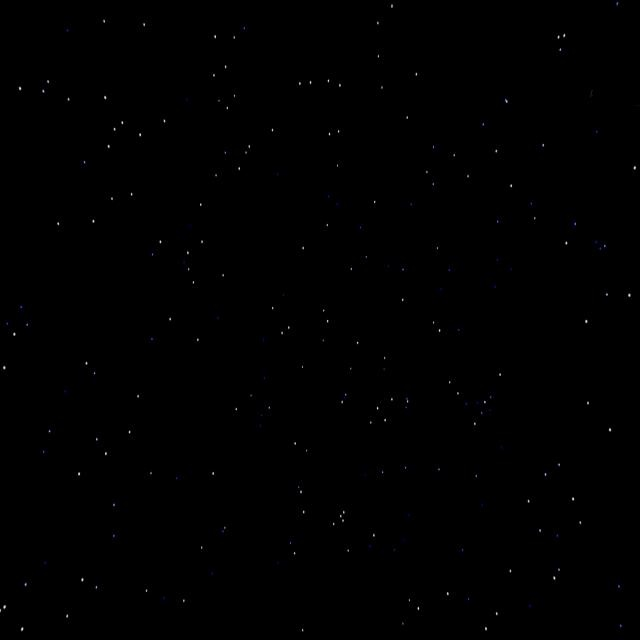satellite: (524, 87, 638, 168)
